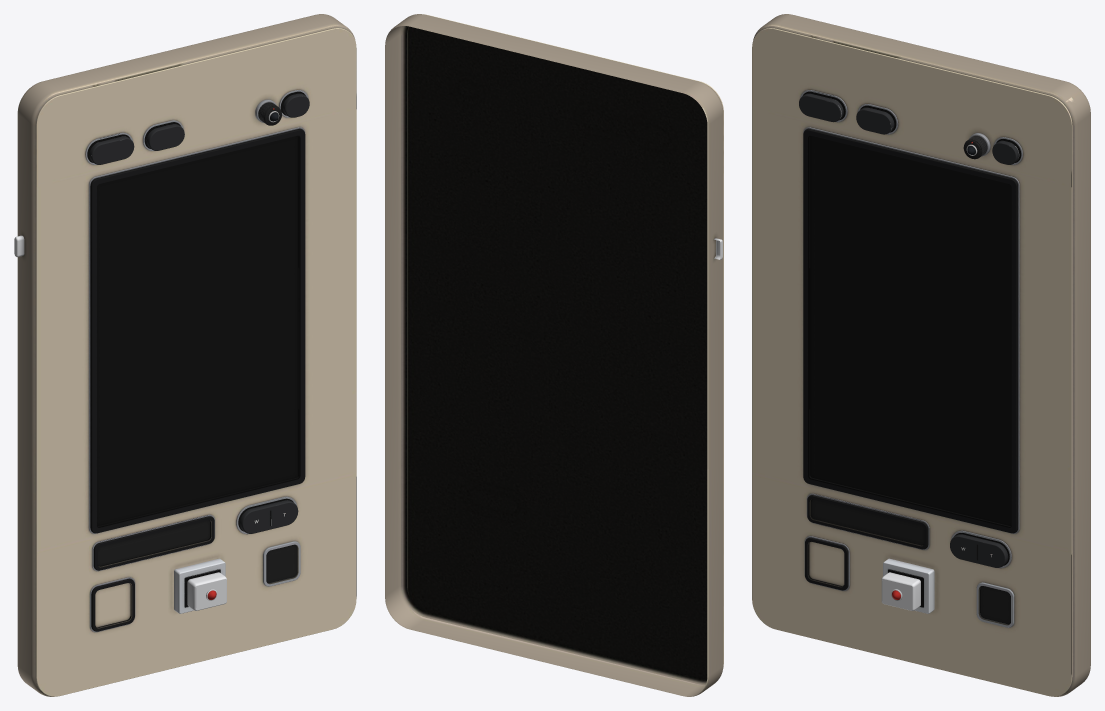
File: digital.glb
The picture shows the model from 3 angles, left to right: view 1: azimuth 30°, elevation 25°; view 2: azimuth 150°, elevation 25°; view 3: azimuth 330°, elevation 25°; orthographic projection.
Visible parts, largest first — view 1: finish.champagne.bot, finish.champagne.top, body.top, body.mid, body.bot, finish.champagne.mid, mv.rocker.rock.mesh, mv.shutter.press.mesh, mv.pill.press.mesh, mv.pillwide.press.mesh; view 2: finish.champagne.bot, finish.champagne.top, finish.champagne.mid; view 3: finish.champagne.bot, finish.champagne.top, body.top, body.mid, body.bot, finish.champagne.mid, mv.rocker.rock.mesh, mv.shutter.press.mesh, mv.pill.press.mesh, mv.pillwide.press.mesh, mv.pillsmall.press.mesh.
Part boxes in pixels (x1=…): finish.champagne.bot: x1=17, y1=394, x2=356, y2=696; finish.champagne.top: x1=17, y1=14, x2=356, y2=330; body.top: x1=14, y1=90, x2=308, y2=319; body.mid: x1=89, y1=267, x2=305, y2=460; body.bot: x1=89, y1=408, x2=305, y2=632; finish.champagne.mid: x1=17, y1=253, x2=356, y2=472; mv.rocker.rock.mesh: x1=240, y1=500, x2=298, y2=533; mv.shutter.press.mesh: x1=187, y1=572, x2=226, y2=610; mv.pill.press.mesh: x1=89, y1=136, x2=134, y2=164; mv.pillwide.press.mesh: x1=146, y1=124, x2=184, y2=150; finish.champagne.bot: x1=385, y1=380, x2=723, y2=696; finish.champagne.top: x1=385, y1=14, x2=723, y2=329; finish.champagne.mid: x1=385, y1=239, x2=723, y2=471; finish.champagne.bot: x1=752, y1=394, x2=1090, y2=696; finish.champagne.top: x1=752, y1=14, x2=1090, y2=330; body.top: x1=800, y1=90, x2=1022, y2=319; body.mid: x1=803, y1=267, x2=1019, y2=460; body.bot: x1=803, y1=408, x2=1019, y2=627; finish.champagne.mid: x1=752, y1=253, x2=1090, y2=472; mv.rocker.rock.mesh: x1=950, y1=534, x2=1008, y2=567; mv.shutter.press.mesh: x1=881, y1=572, x2=920, y2=610; mv.pill.press.mesh: x1=799, y1=93, x2=843, y2=122; mv.pillwide.press.mesh: x1=856, y1=107, x2=894, y2=134; mv.pillsmall.press.mesh: x1=992, y1=140, x2=1019, y2=164.
Size of the model in its own units: 590 by 1028 by 109.
7 materials, 7 textured.
